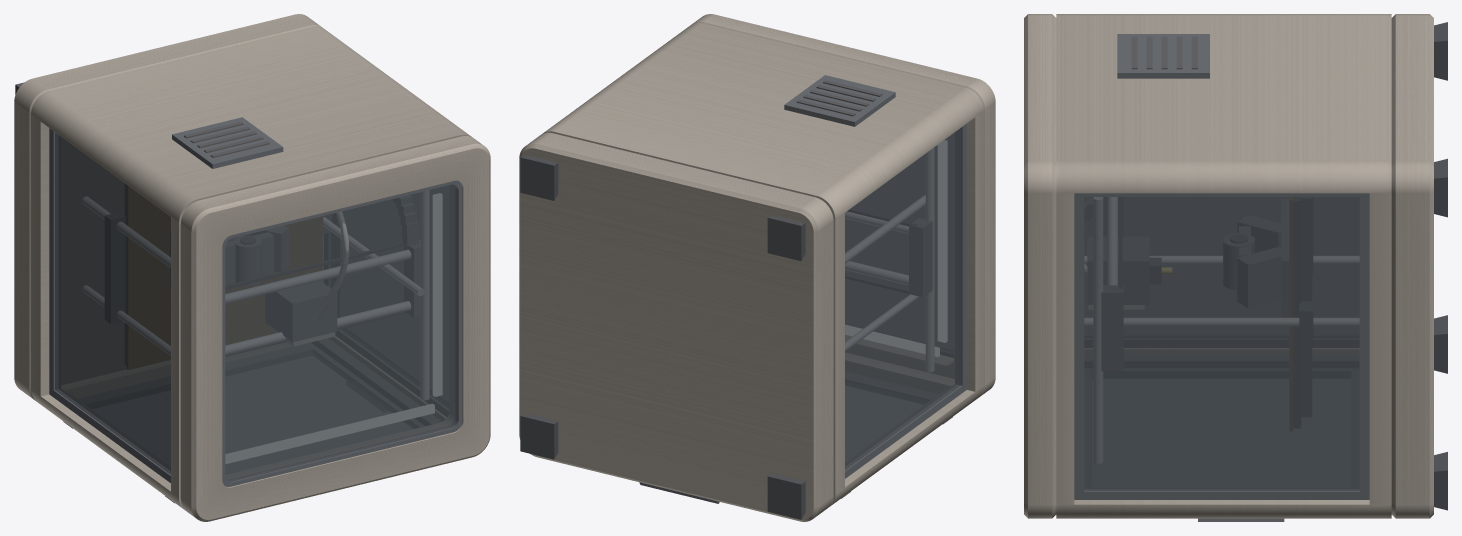
Rendered from deltrol_p2s_true3d_candidate.glb.
The picture shows the model from 3 angles, left to right: view 1: azimuth 30°, elevation 25°; view 2: azimuth 150°, elevation 25°; view 3: azimuth 270°, elevation 25°; orthographic projection. The views are drawn at different scales.
Parts seen in each view (by area): view 1: top_roof_glass, unibody_top_frame, unibody_rear_wall, left_glass_window, front_glass_door, interior_floor_tray, unibody_base_plinth, build_plate, right_glass_window, unibody_corner_1, top_rim_outer, unibody_left_bot_beam (+28 smaller); view 2: unibody_base_plinth, unibody_rear_wall, left_glass_window, top_roof_glass, unibody_top_frame, unibody_corner_1, unibody_left_top_beam, unibody_left_bot_beam, front_glass_door, left_gasket_top, rear_exhaust_housing, unibody_corner_2 (+15 smaller); view 3: right_glass_window, unibody_rear_wall, front_glass_door, unibody_base_plinth, left_glass_window, unibody_top_frame, unibody_corner_0, unibody_right_bot_beam, unibody_corner_3, unibody_right_top_beam, right_gasket_f, right_gasket_bot (+28 smaller).
Boxes of the visible parts, left/top/right/bottom form: top_roof_glass: left=225, top=184, right=457, bottom=481; unibody_top_frame: left=180, top=136, right=490, bottom=521; unibody_rear_wall: left=50, top=27, right=459, bottom=200; left_glass_window: left=55, top=132, right=170, bottom=474; front_glass_door: left=91, top=353, right=413, bottom=473; interior_floor_tray: left=62, top=138, right=125, bottom=384; unibody_base_plinth: left=14, top=14, right=322, bottom=400; build_plate: left=127, top=185, right=322, bottom=369; right_glass_window: left=335, top=186, right=448, bottom=404; unibody_corner_1: left=31, top=91, right=197, bottom=222; top_rim_outer: left=222, top=180, right=462, bottom=486; unibody_left_bot_beam: left=31, top=115, right=49, bottom=396; unibody_base_plinth: left=519, top=132, right=833, bottom=521; unibody_rear_wall: left=554, top=23, right=964, bottom=197; left_glass_window: left=845, top=128, right=961, bottom=470; top_roof_glass: left=845, top=134, right=953, bottom=350; unibody_top_frame: left=691, top=14, right=995, bottom=396; unibody_corner_1: left=817, top=87, right=983, bottom=219; unibody_left_top_beam: left=967, top=112, right=983, bottom=391; unibody_left_bot_beam: left=833, top=213, right=844, bottom=494; front_glass_door: left=845, top=385, right=923, bottom=461; left_gasket_top: left=955, top=123, right=966, bottom=390; rear_exhaust_housing: left=784, top=75, right=895, bottom=126; unibody_corner_2: left=829, top=386, right=983, bottom=506; right_glass_window: left=1084, top=197, right=1359, bottom=491; unibody_rear_wall: left=1056, top=16, right=1391, bottom=161; front_glass_door: left=1093, top=377, right=1350, bottom=486; unibody_base_plinth: left=1391, top=14, right=1433, bottom=518; left_glass_window: left=1085, top=197, right=1358, bottom=335; unibody_top_frame: left=1024, top=14, right=1056, bottom=518; unibody_corner_0: left=1056, top=161, right=1391, bottom=193; unibody_right_bot_beam: left=1369, top=193, right=1391, bottom=504; unibody_corner_3: left=1056, top=500, right=1391, bottom=518; unibody_right_top_beam: left=1056, top=193, right=1074, bottom=504; right_gasket_f: left=1074, top=488, right=1369, bottom=499; right_gasket_bot: left=1359, top=193, right=1369, bottom=499.
Bounding box in the file's own units: 0.39 × 0.4135 × 0.422.
15 materials, 3 textured.
